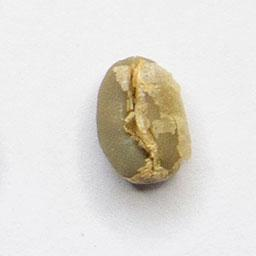peaberry: (93, 53, 196, 189)
